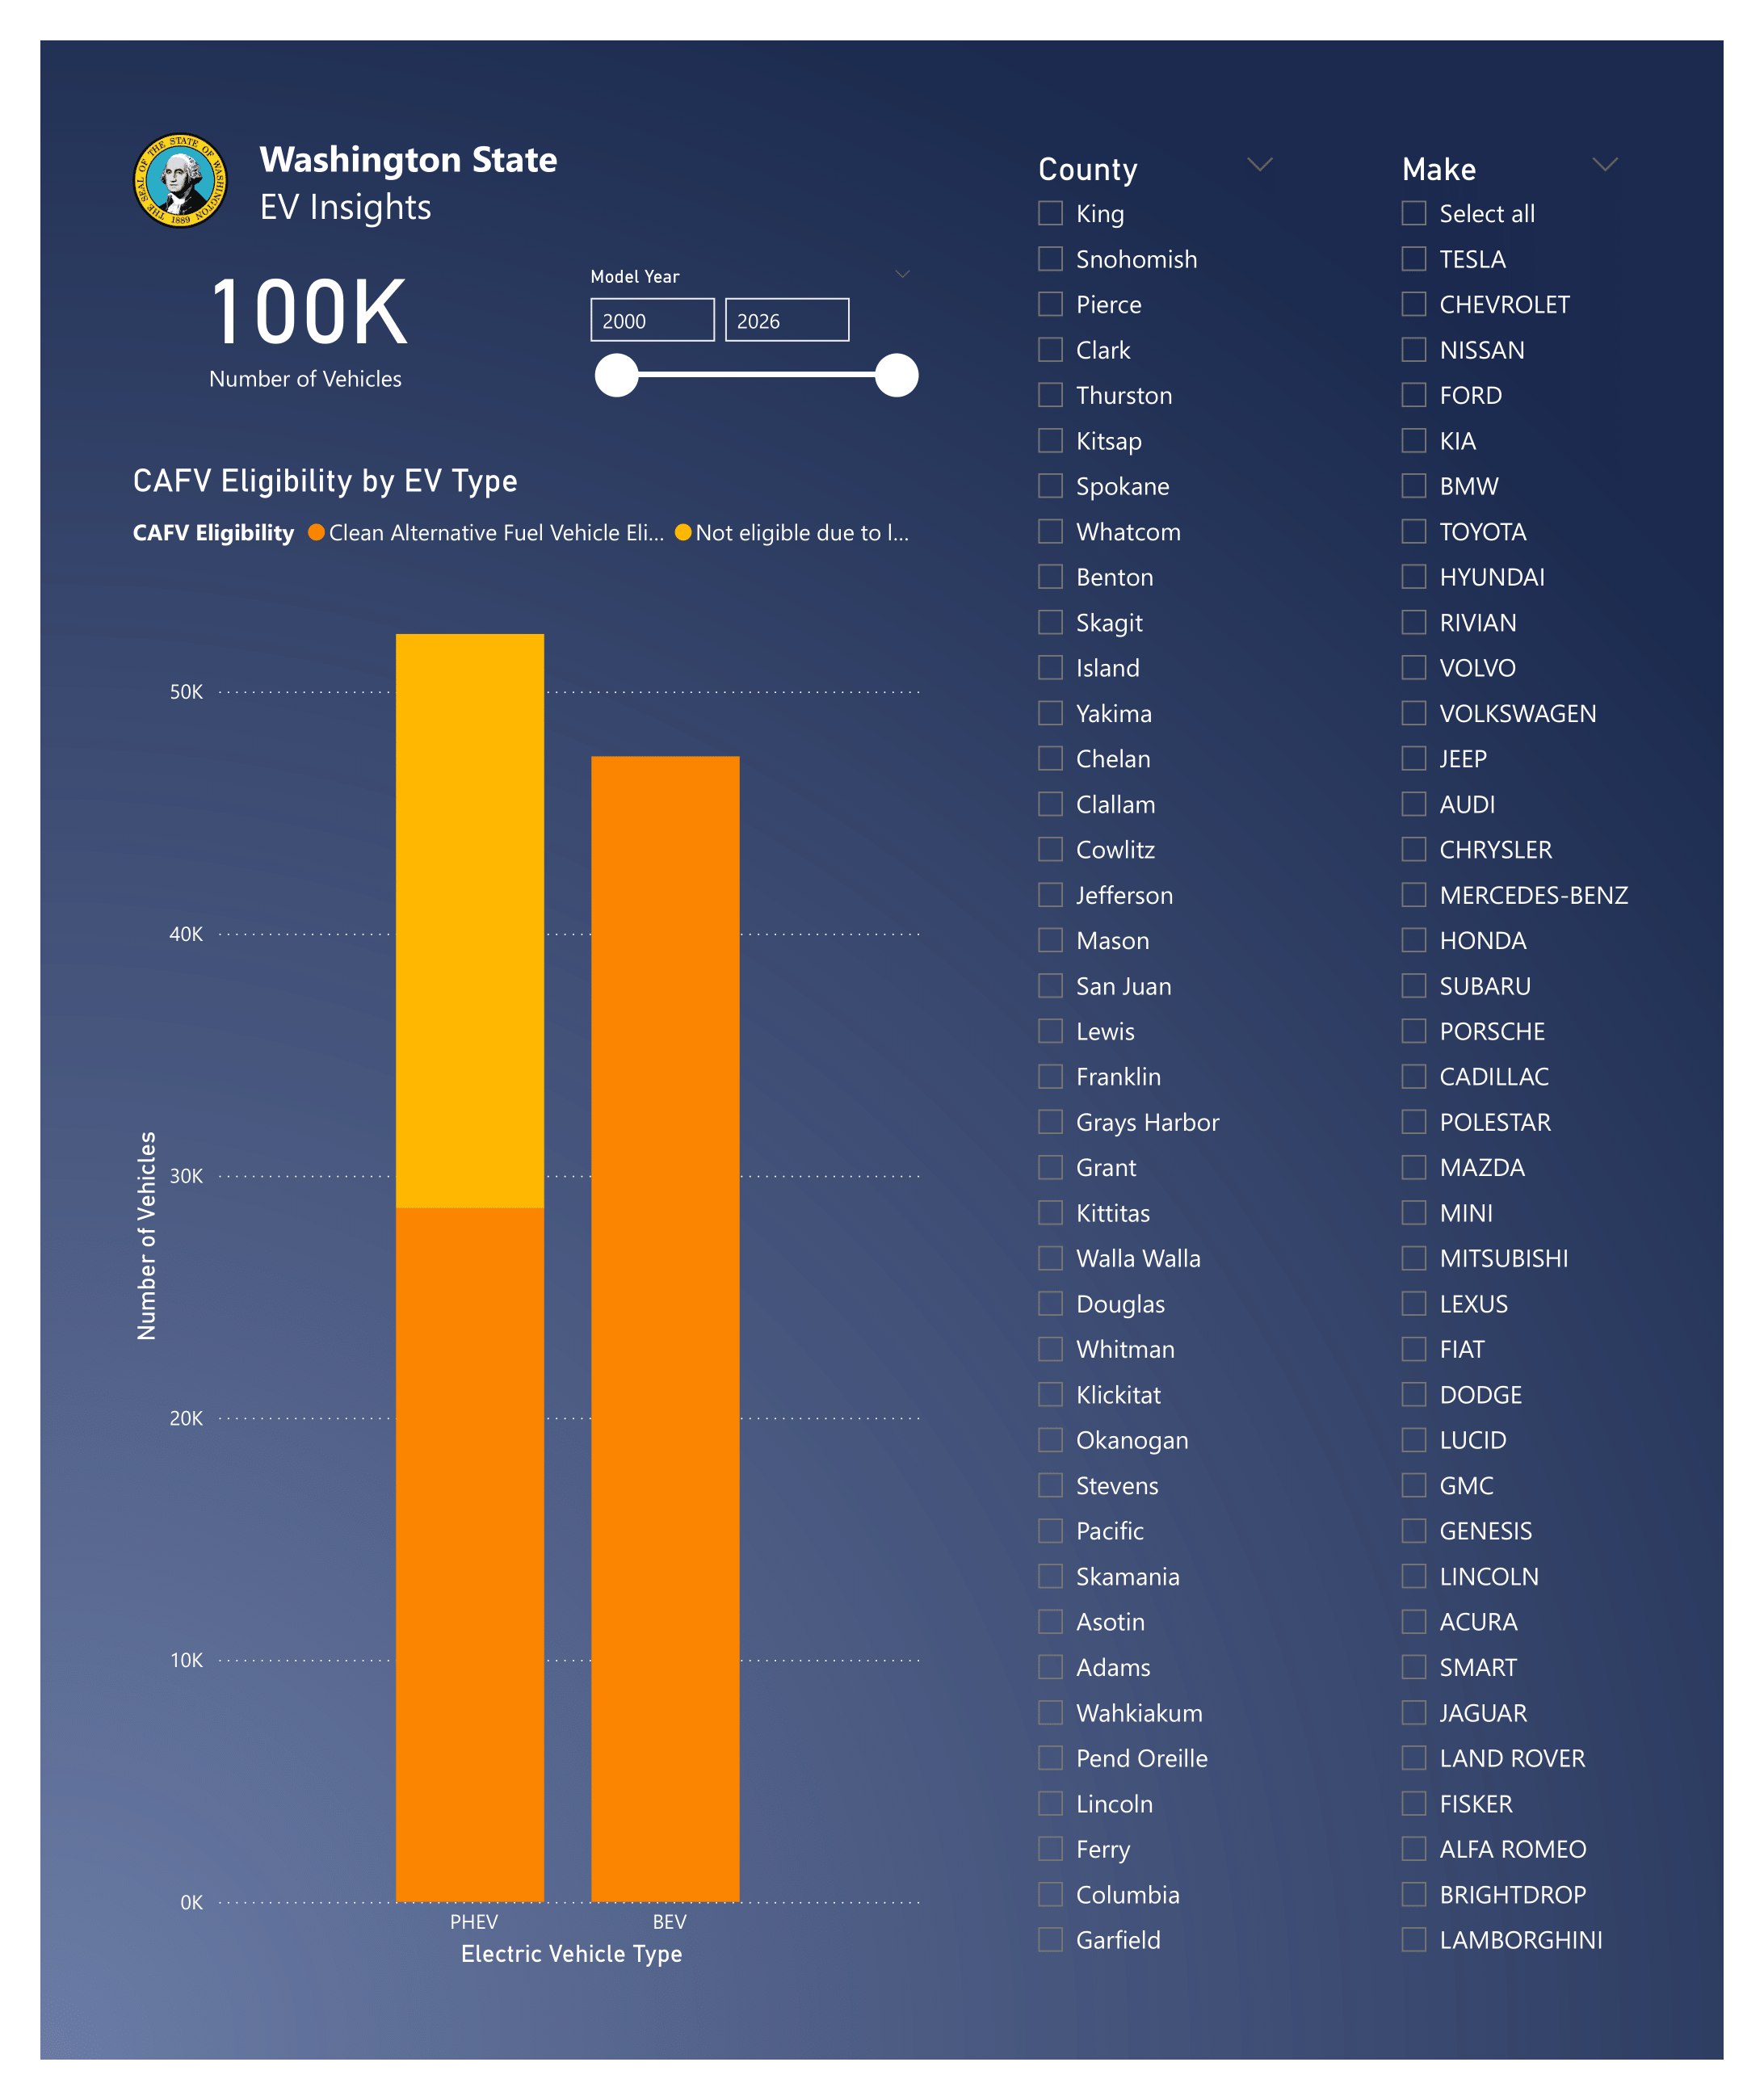

The page's visual inventory and layout, read from the dashboard file:
{"tool":"powerbi","page":{"name":"CAFV Eligibility","canvas":[1000,1200],"ordinal":3},"visuals":[{"type":"columnChart","title":"CAFV Eligibility by EV Type","fields":{"Category":["Electric_Vehicle_Population_Data.Electric Vehicle Type"],"Y":["Electric_Vehicle_Population_Data.Total Vehicles"],"Series":["Electric_Vehicle_Population_Data.Clean Alternative Fuel Vehicle (CAFV) Eligibility"]},"box":[50,250,480,900],"z":0},{"type":"card","fields":{"Values":["Electric_Vehicle_Population_Data.Total Vehicles"]},"box":[50,107.5,215,110],"z":1000},{"type":"slicer","fields":{"Values":["Electric_Vehicle_Population_Data.Model Year"]},"box":[314.3,128.6,215.7,110],"z":2000},{"type":"slicer","fields":{"Values":["Sort_County.County"]},"box":[580,60,165.7,1088.6],"z":3000},{"type":"slicer","fields":{"Values":["Sorting Table.Make"]},"box":[796.2,60,155,1088.8],"z":4000},{"type":"slicer","fields":{"Values":["Electric_Vehicle_Population_Data.Model"]},"box":[1054.3,202.9,167.1,495.7],"z":5000},{"type":"card","fields":{"Values":["Avg(Electric_Vehicle_Population_Data.Base MSRP)"]},"box":[1040,38.3,185,110],"z":6000},{"type":"image","box":[50,50,67,67],"z":7000},{"type":"textbox","box":[134.3,50,300,78.6],"z":9000}]}

Visuals, with their boxes in screenshot pixels (x1, y1, x2, y2):
"CAFV Eligibility by EV Type" columnChart: bbox=[124, 461, 933, 1976]
card - Electric_Vehicle_Population_Data.Total Vehicles: bbox=[124, 221, 486, 406]
slicer - Electric_Vehicle_Population_Data.Model Year: bbox=[569, 257, 933, 442]
slicer - Sort_County.County: bbox=[1017, 141, 1296, 1973]
slicer - Sorting Table.Make: bbox=[1380, 141, 1641, 1973]
image: bbox=[124, 124, 237, 237]
textbox: bbox=[267, 124, 771, 257]
